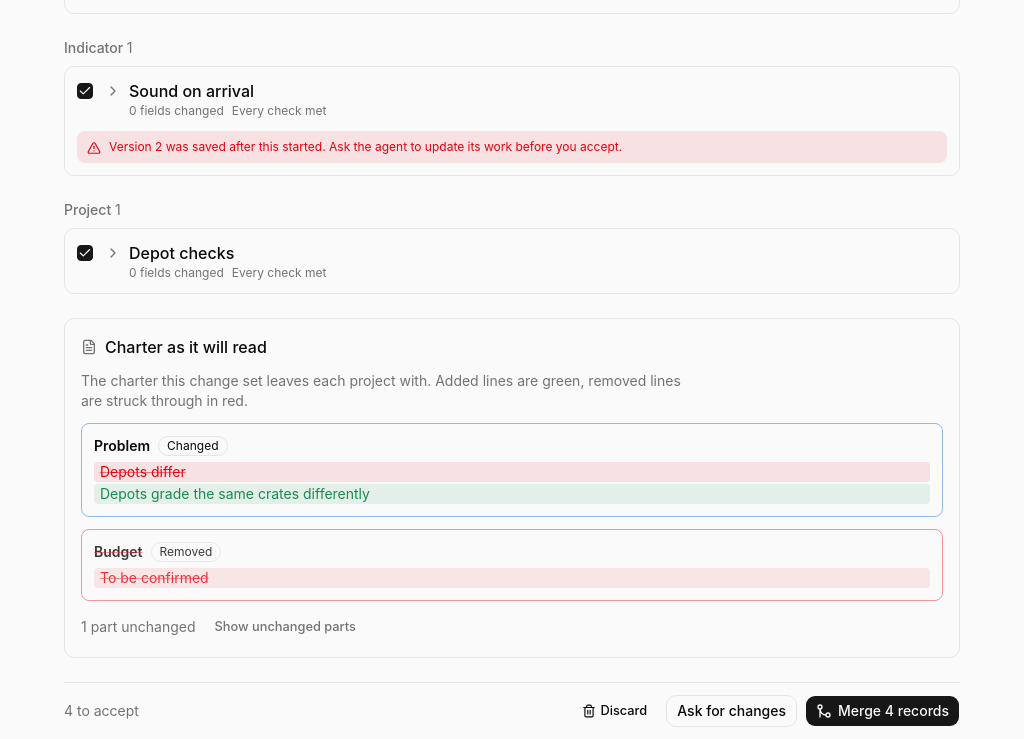
Test: a change set's review › previews each project's charter, coloured by what the change set does to it
(page scrolled)
Expected: the text "Six depots" is not shown
Click the button "Show unchanged parts".
click(285, 627)  # box 204,613 -> 367,641
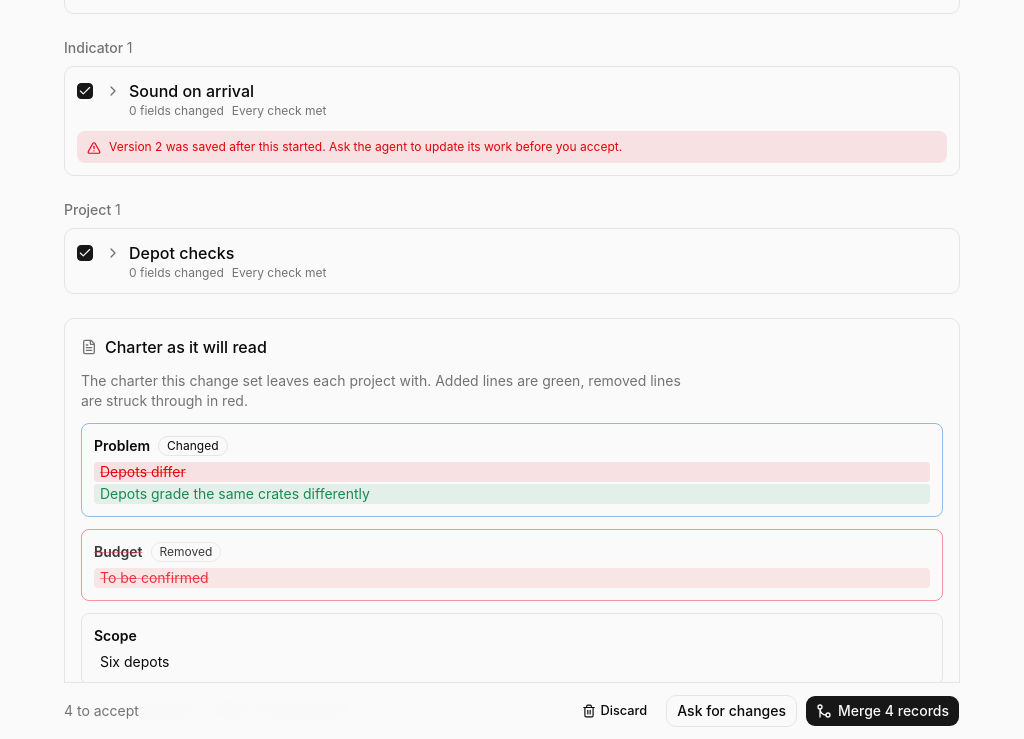
Expected: the list item "Six depots" is shown, 100,653 -> 170,670
